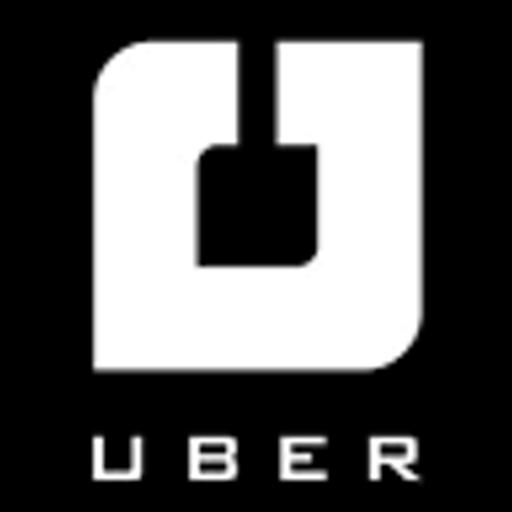Uber: (45, 0, 466, 512)
